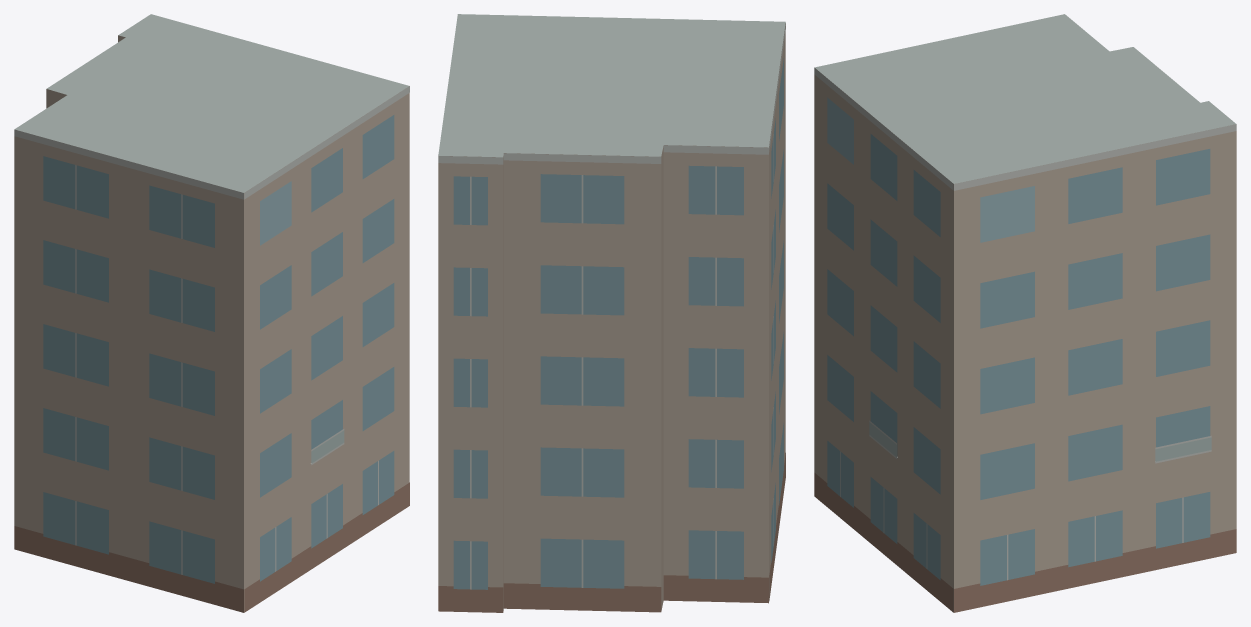
The model's file is survey-upis-32717818.glb.
The picture shows the model from 3 angles, left to right: view 1: azimuth 30°, elevation 25°; view 2: azimuth 150°, elevation 25°; view 3: azimuth 270°, elevation 25°; orthographic projection. The views are drawn at different scales.
Visible parts, largest first — view 1: survey-upis-32717818.tmp; view 2: survey-upis-32717818.tmp; view 3: survey-upis-32717818.tmp.
Boxes of the visible parts, bbox=[...] form: survey-upis-32717818.tmp: bbox=[14, 14, 409, 612]; survey-upis-32717818.tmp: bbox=[438, 14, 785, 612]; survey-upis-32717818.tmp: bbox=[814, 14, 1236, 612].
Size of the model in its own units: 12.93 by 15.2 by 13.57.
